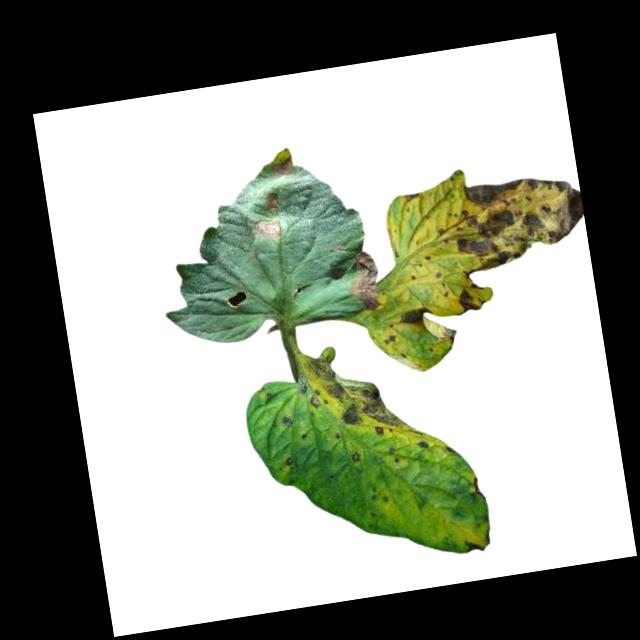Early_blight: (447, 169, 589, 275), (296, 349, 401, 448), (344, 249, 386, 316), (451, 284, 484, 317), (250, 216, 286, 246), (398, 304, 435, 331), (271, 153, 298, 181), (263, 192, 282, 212), (414, 437, 433, 454), (466, 540, 486, 556), (279, 415, 294, 435), (349, 450, 363, 467), (382, 334, 399, 347)
